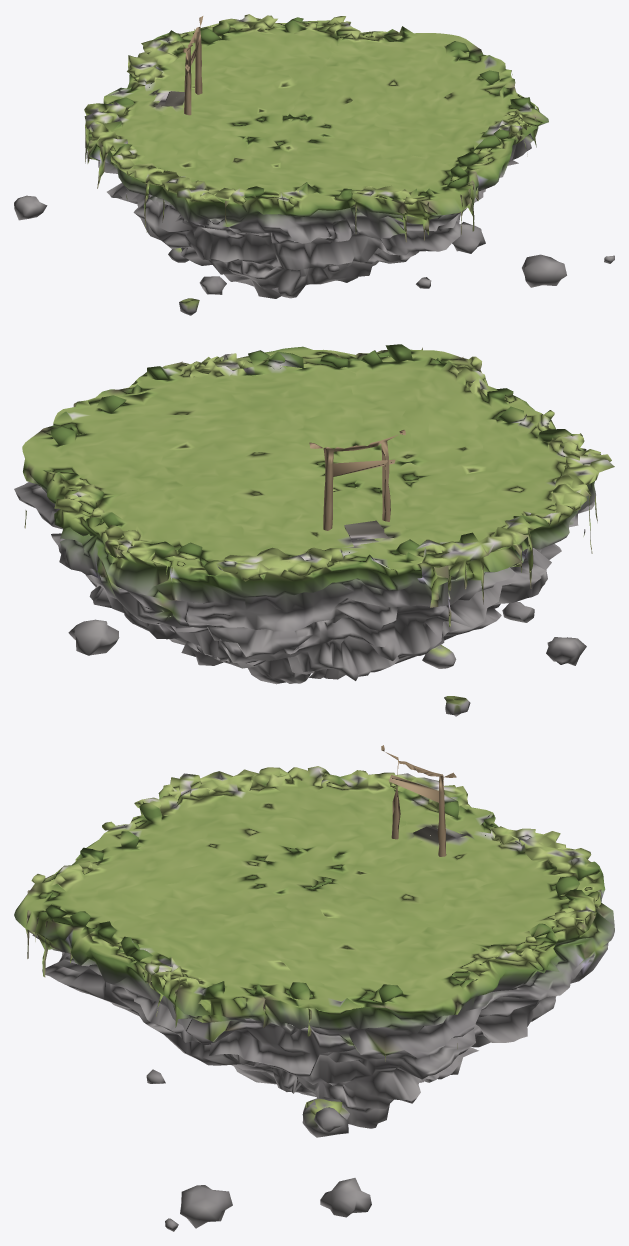
The model's file is meadow_a.glb.
3 renders of one model, top to bottom at view 1: azimuth 30°, elevation 25°; view 2: azimuth 150°, elevation 25°; view 3: azimuth 270°, elevation 25°, orthographic. The views are drawn at different scales.
Bounding box in the file's own units: 35.21 × 17.19 × 30.24.
